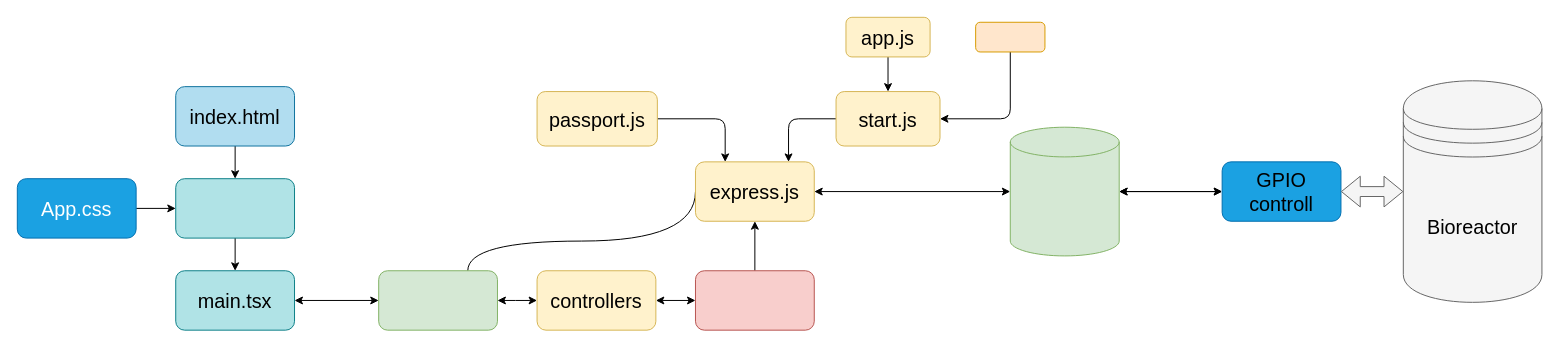
This 1559x347 diagram has some shape labels left out. Each missing label, with the centre of its shape:
.env: the point at 1010,36
App.tsx: the point at 235,208
models: the point at 754,300
MongoDB: the point at 1064,191
routes: the point at 437,300
